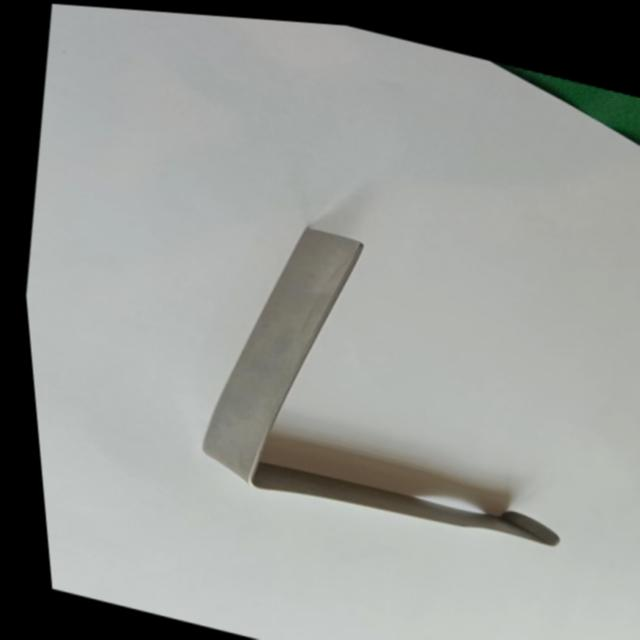AustinRetractor: (149, 189, 619, 563)
